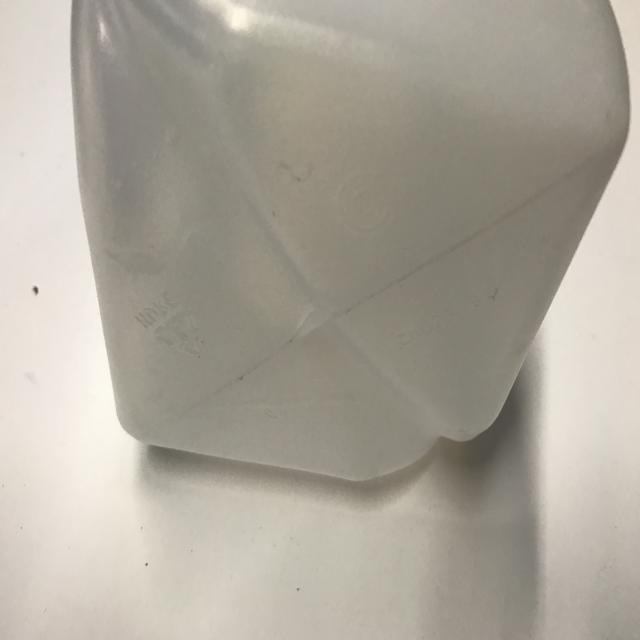plastic: (69, 0, 632, 483)
